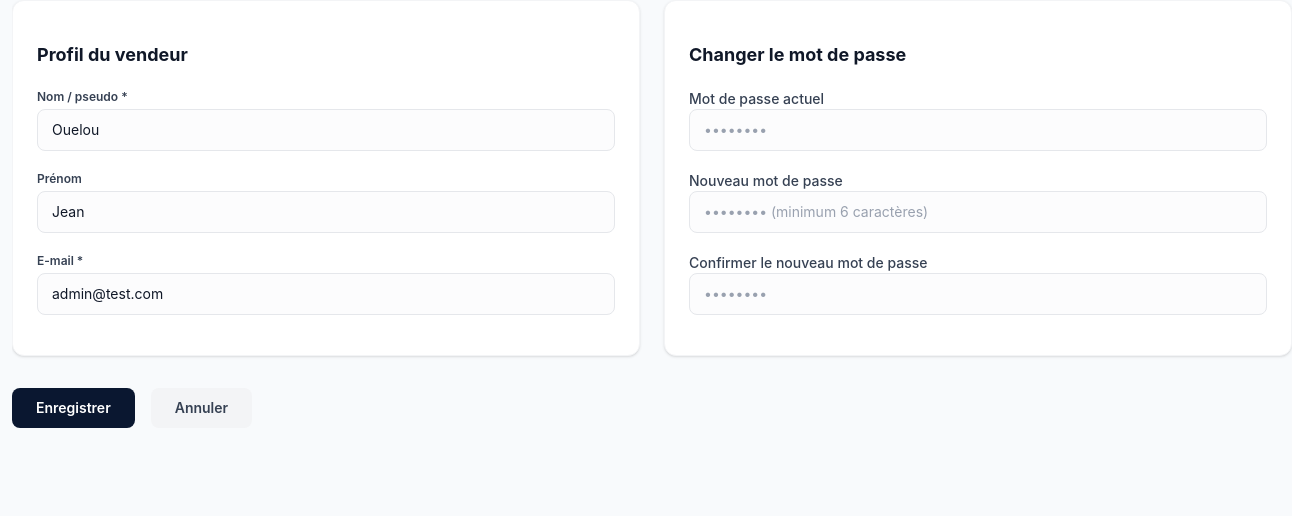
Scenario: AdminProfileForm — mot de passe › rejette si seul le currentPassword est rempli
Type "oldpass" into the password field labelled "Mot de passe actuel".
click(978, 130); type("oldpass")  # box [689,109,1267,151]
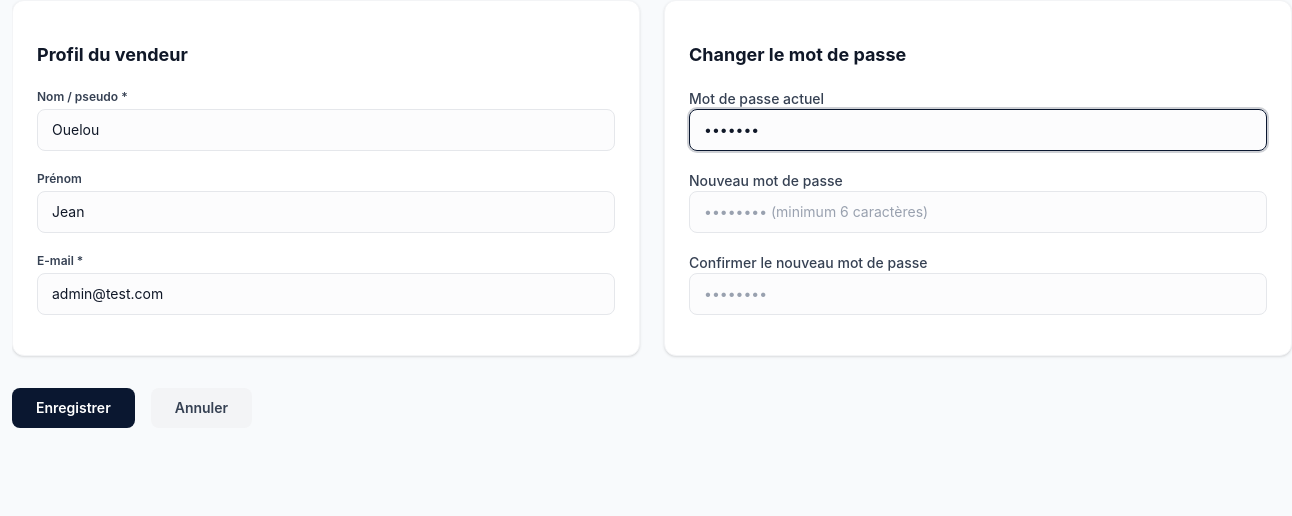
Click the button "Enregistrer".
click(73, 408)  # box [12,388,135,428]
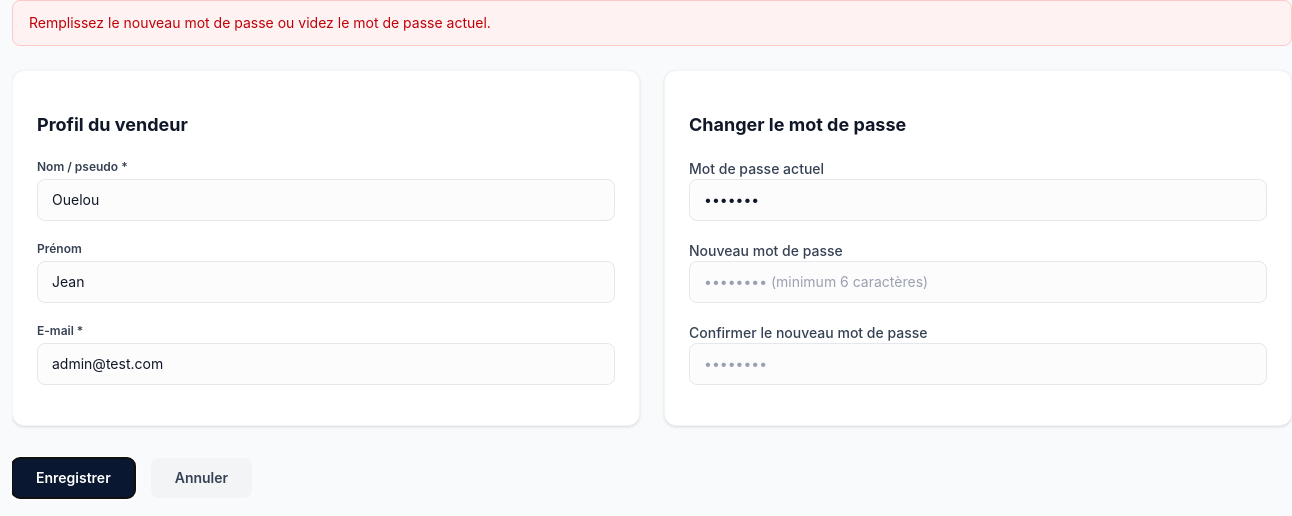
expect the message shows "nouveau mot de passe": met, box [29,14,491,31]
